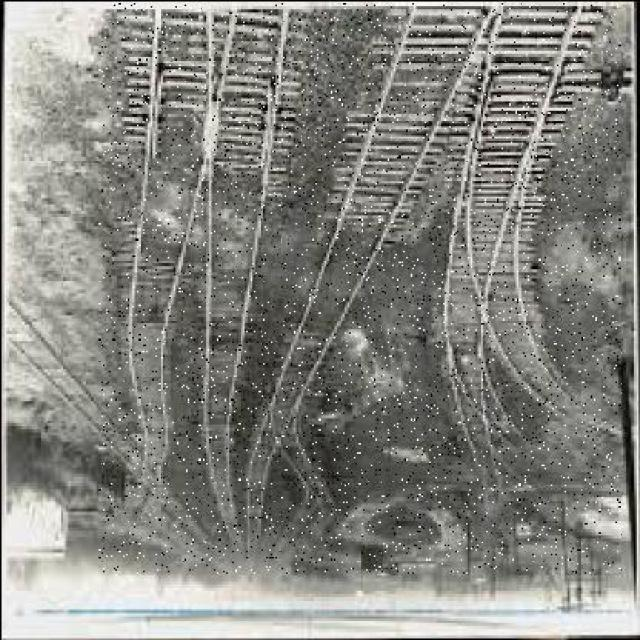rail: (98, 3, 621, 573)
